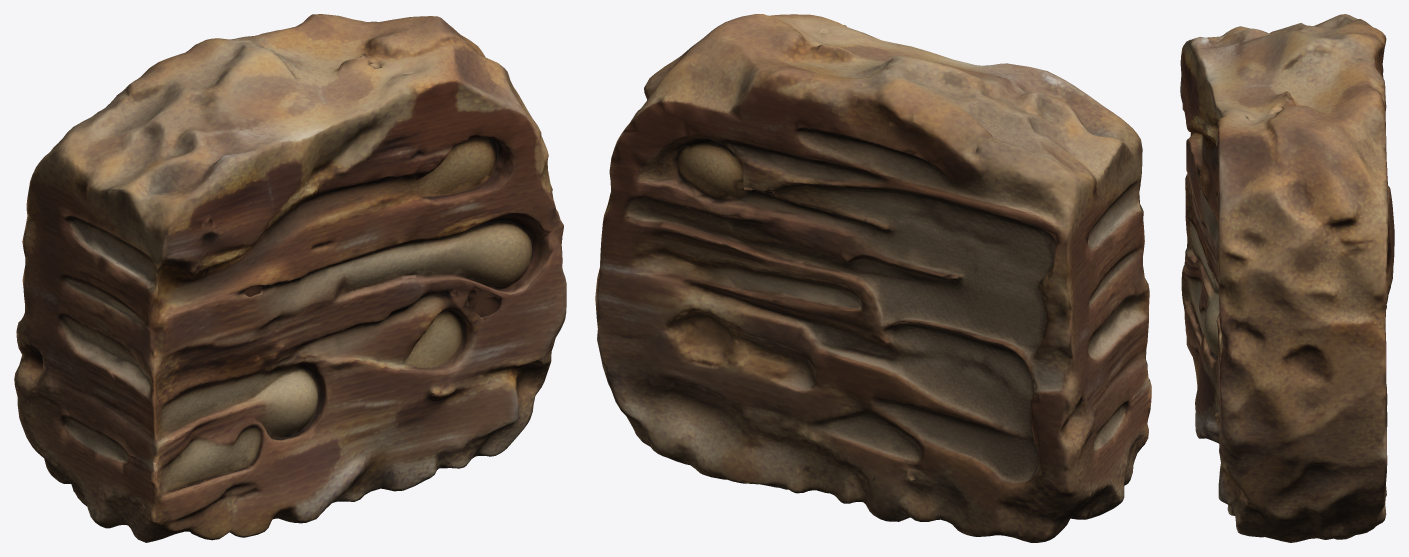
3 renders of one model, left to right at view 1: azimuth 30°, elevation 25°; view 2: azimuth 150°, elevation 25°; view 3: azimuth 270°, elevation 25°, orthographic. The views are drawn at different scales.
Parts seen in each view (by area): view 1: world; view 2: world; view 3: world.
Part boxes in pixels (box(x1,y1,x2,y2)): world: box(14, 14, 566, 542); world: box(595, 14, 1151, 542); world: box(1180, 14, 1394, 542).
Size of the model in its own units: 0.32 by 0.278 by 0.1317.
1 material, 1 textured.
